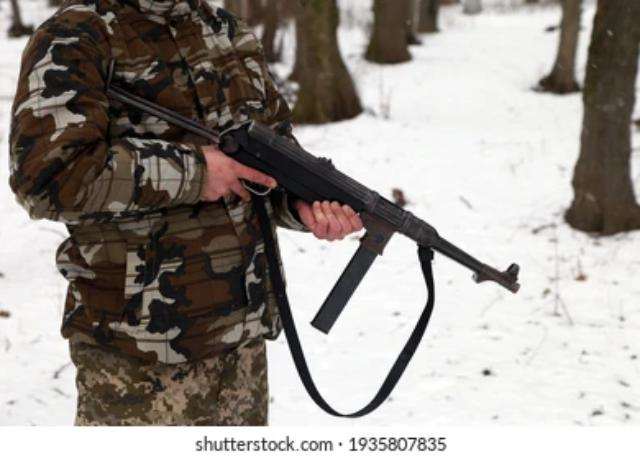other: (12, 7, 304, 420)
